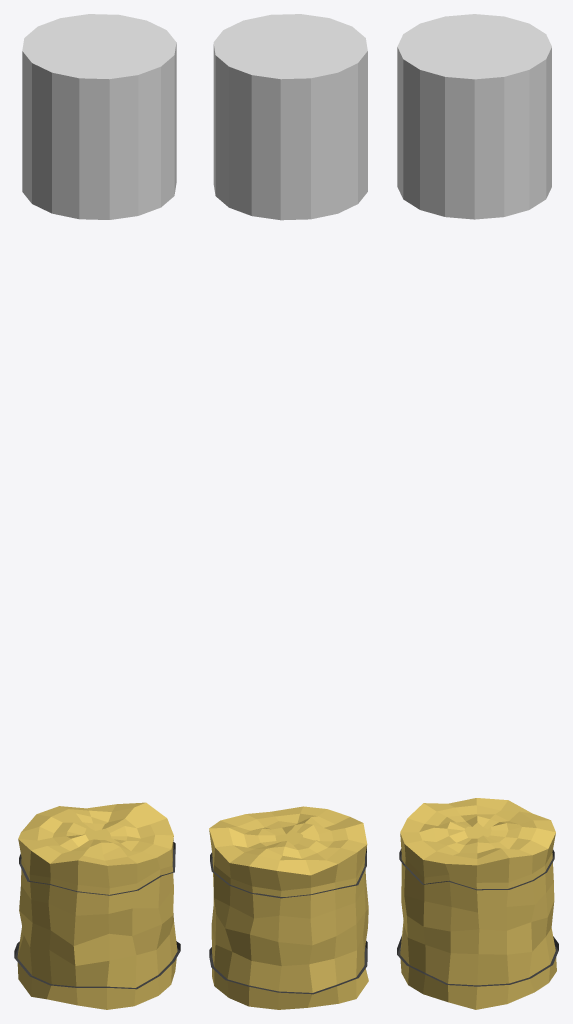
File: hay_bale_round.fbx
3 renders of one model, left to right at view 1: azimuth 30°, elevation 25°; view 2: azimuth 150°, elevation 25°; view 3: azimuth 270°, elevation 25°, orthographic.
Parts seen in each view (by area): view 1: Cylinder, Cylinder.001; view 2: Cylinder.001, Cylinder; view 3: Cylinder, Cylinder.001.
Part boxes in pixels (x1,y1,x2,y2): Cylinder: (14, 802, 180, 1009); Cylinder.001: (22, 14, 176, 219); Cylinder.001: (213, 14, 367, 220); Cylinder: (209, 806, 368, 1009); Cylinder: (397, 798, 558, 1009); Cylinder.001: (397, 14, 551, 219).
Bounding box in the file's own units: 206 × 1328 × 209.
